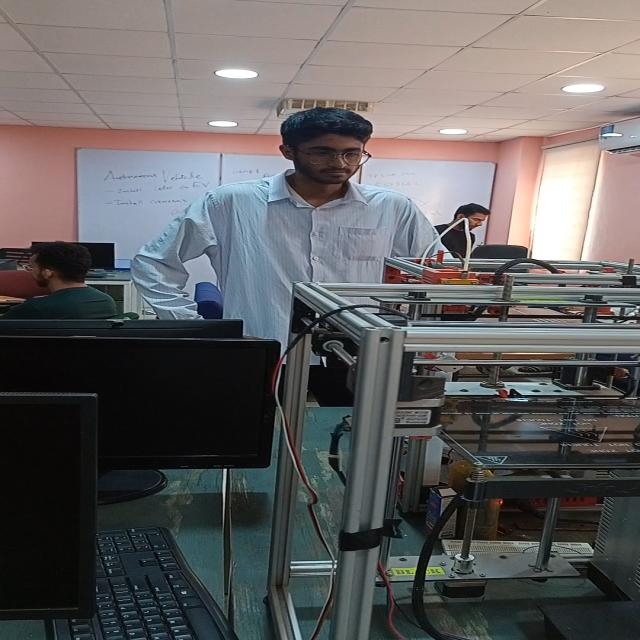dress: (130, 165, 468, 337)
glasses: (283, 143, 378, 169)
